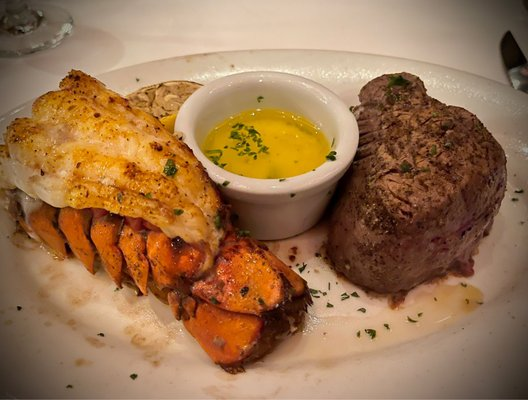sushi: (173, 70, 360, 241)
